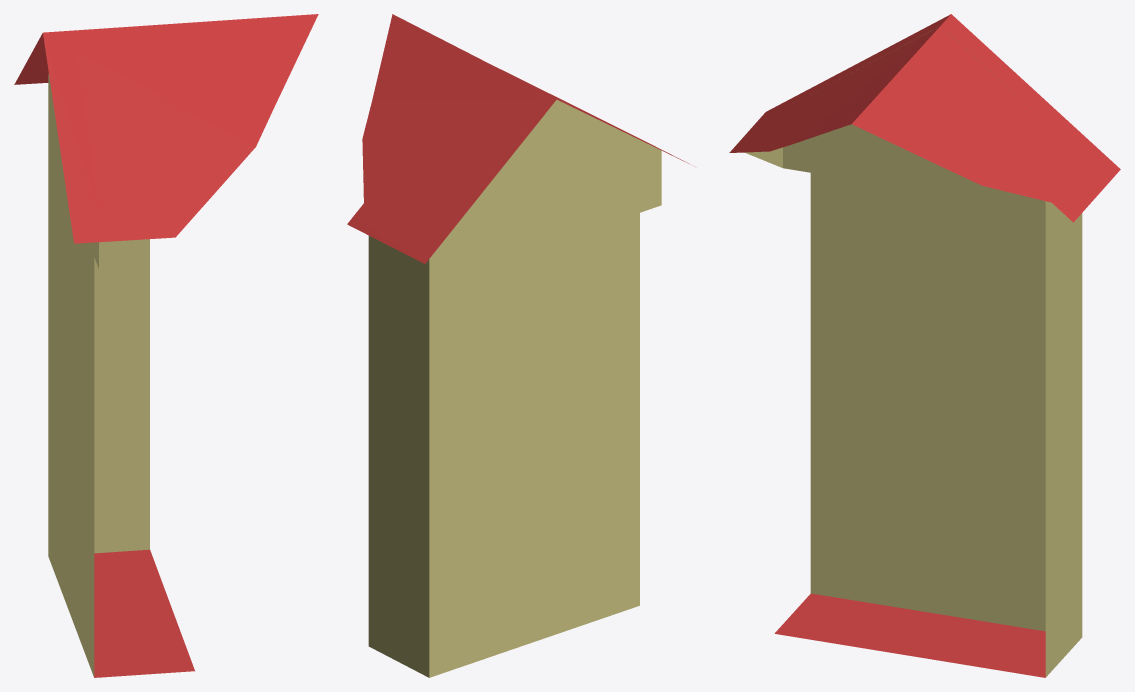
The picture shows the model from 3 angles, left to right: view 1: azimuth 30°, elevation 25°; view 2: azimuth 150°, elevation 25°; view 3: azimuth 270°, elevation 25°; orthographic projection. The views are drawn at different scales.
Bounding box in the file's own units: 5.56 × 6.57 × 10.89.
